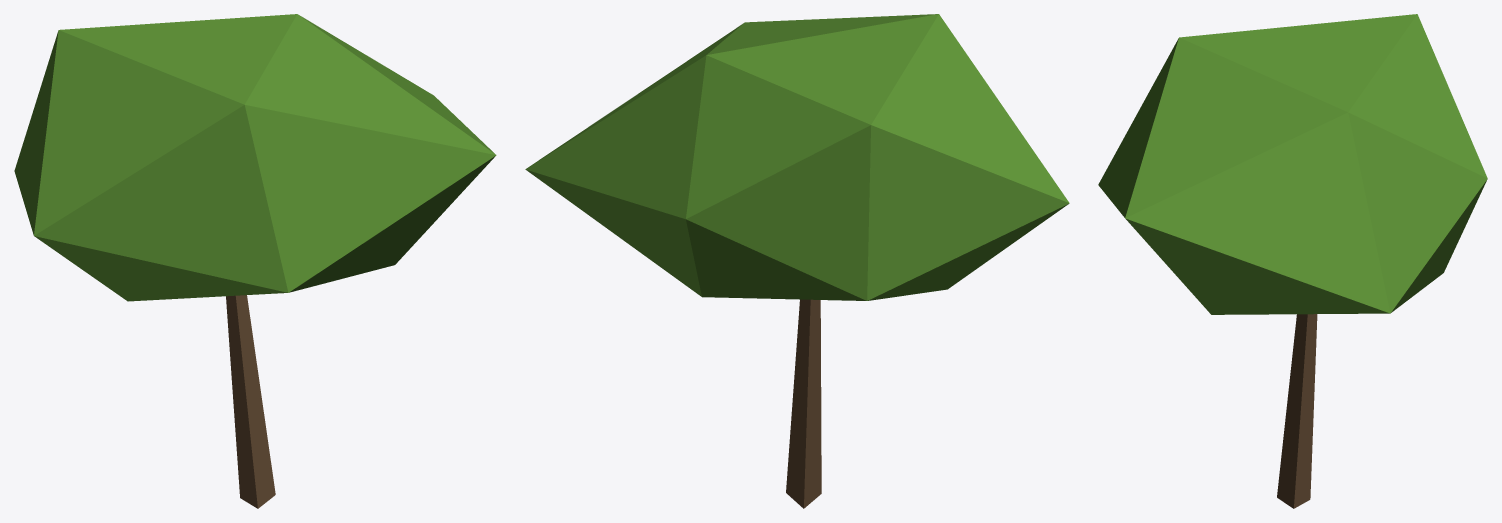
Rendered from broadleaf_b_lod2.glb.
3 views of the same model, side by side, from view 1: azimuth 30°, elevation 25°; view 2: azimuth 150°, elevation 25°; view 3: azimuth 270°, elevation 25° (orthographic). The views are drawn at different scales.
Parts seen in each view (by area): view 1: broadleaf; view 2: broadleaf; view 3: broadleaf.
Boxes of the visible parts, x1,y1,x2,y2 form: broadleaf: [14, 14, 496, 508]; broadleaf: [525, 14, 1069, 508]; broadleaf: [1098, 14, 1487, 508].
Bounding box in the file's own units: 10.56 × 9.83 × 8.03.
